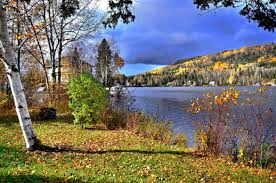field: (12, 117, 274, 182)
lake: (120, 79, 276, 140)
sky: (113, 5, 255, 59)
tree: (5, 4, 83, 145)
